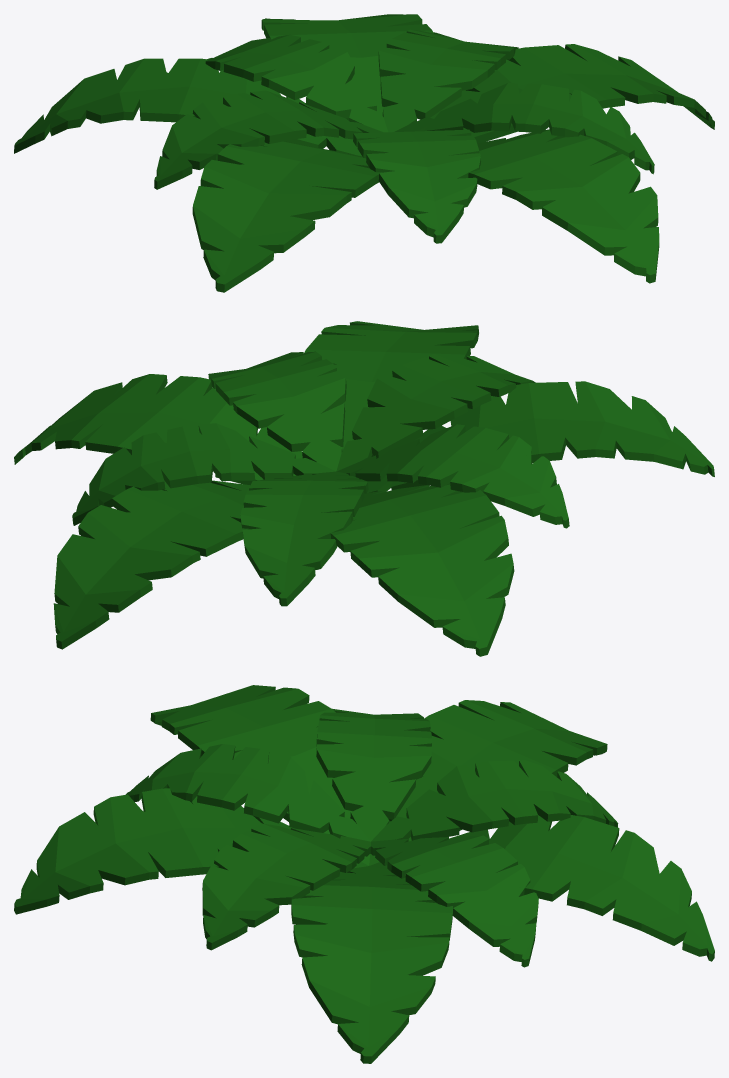
File: GroundPlant_fix.fbx
The picture shows the model from 3 angles, top to bottom: view 1: azimuth 30°, elevation 25°; view 2: azimuth 150°, elevation 25°; view 3: azimuth 270°, elevation 25°; orthographic projection. The views are drawn at different scales.
Parts seen in each view (by area): view 1: Plane.001; view 2: Plane.001; view 3: Plane.001.
Boxes of the visible parts, <box> form: Plane.001: <box>14,14,714,292</box>; Plane.001: <box>14,321,714,656</box>; Plane.001: <box>14,685,714,1063</box>.
Bounding box in the file's own units: 441 × 89.51 × 461.
